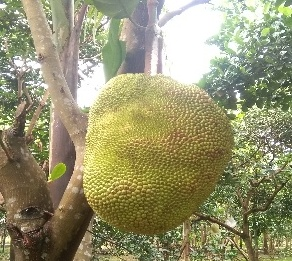Mit: (83, 73, 233, 231)
